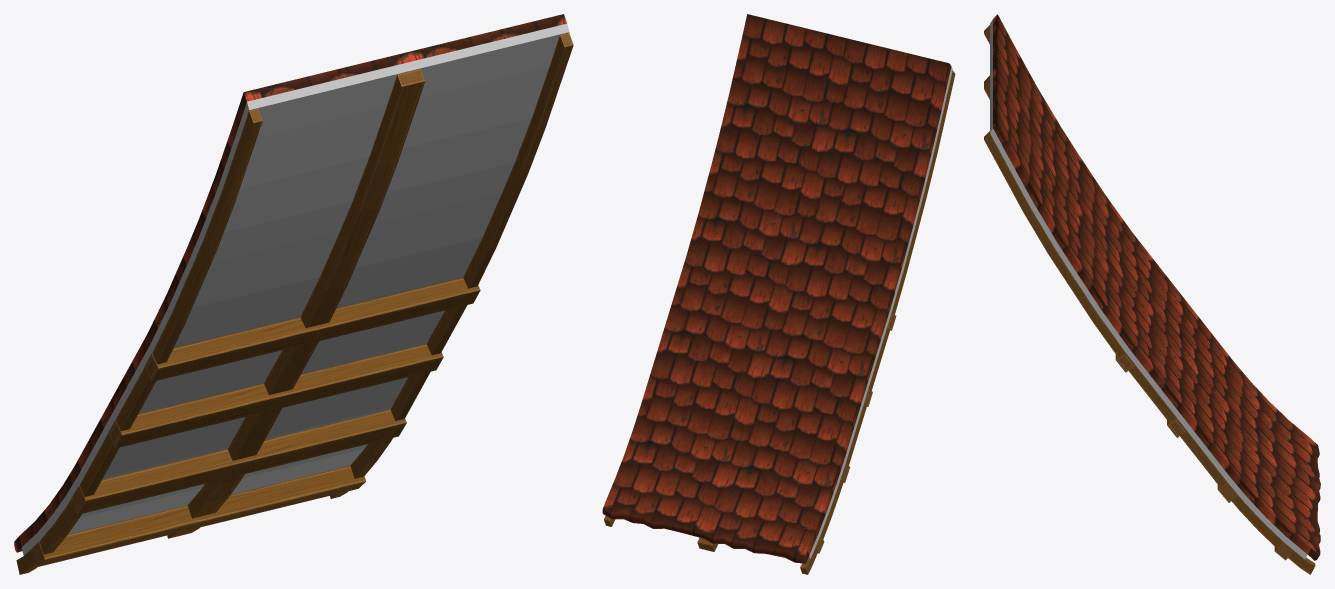
The model's file is SM_House_Roof_02_Tiling.fbx.
3 views of the same model, side by side, from view 1: azimuth 30°, elevation 25°; view 2: azimuth 150°, elevation 25°; view 3: azimuth 270°, elevation 25° (orthographic). The views are drawn at different scales.
Parts seen in each view (by area): view 1: SM_House_Roof_02_Tiling; view 2: SM_House_Roof_02_Tiling; view 3: SM_House_Roof_02_Tiling.
Part boxes in pixels (<box>): SM_House_Roof_02_Tiling: <box>14,14,573,574</box>; SM_House_Roof_02_Tiling: <box>602,14,955,574</box>; SM_House_Roof_02_Tiling: <box>984,14,1320,574</box>.
Size of the model in its own units: 5.02 by 9.64 by 6.51.
